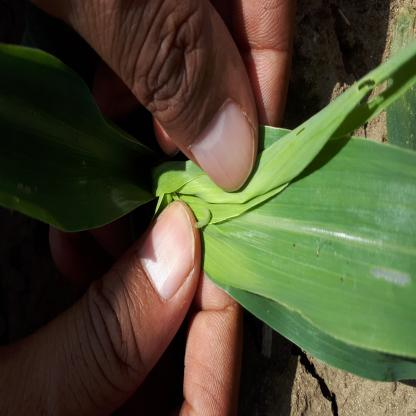armyworm: (100, 340, 119, 388)
